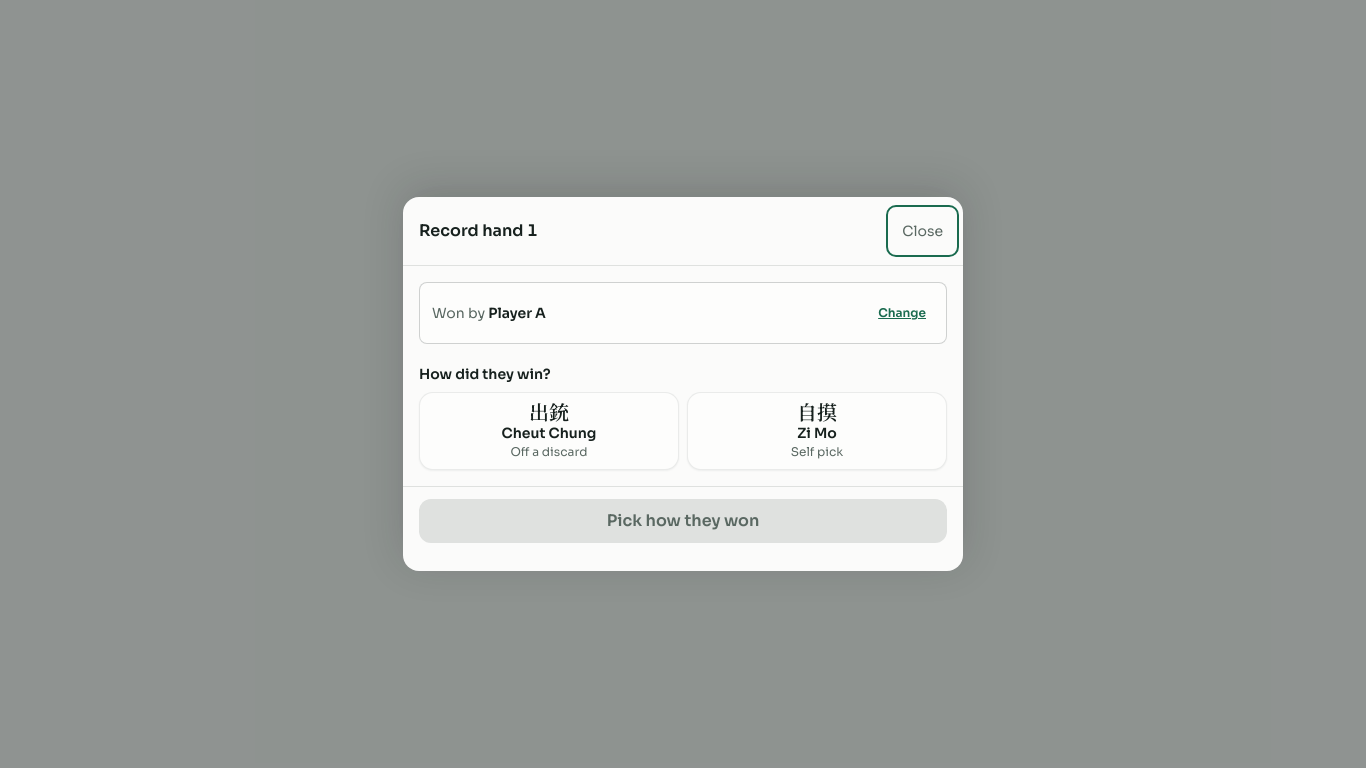
Test: recording a hand › will not let the winner be their own shooter
Click the button "出銃 Cheut Chung Off a discard" at [549, 431], box [419,392,679,470]
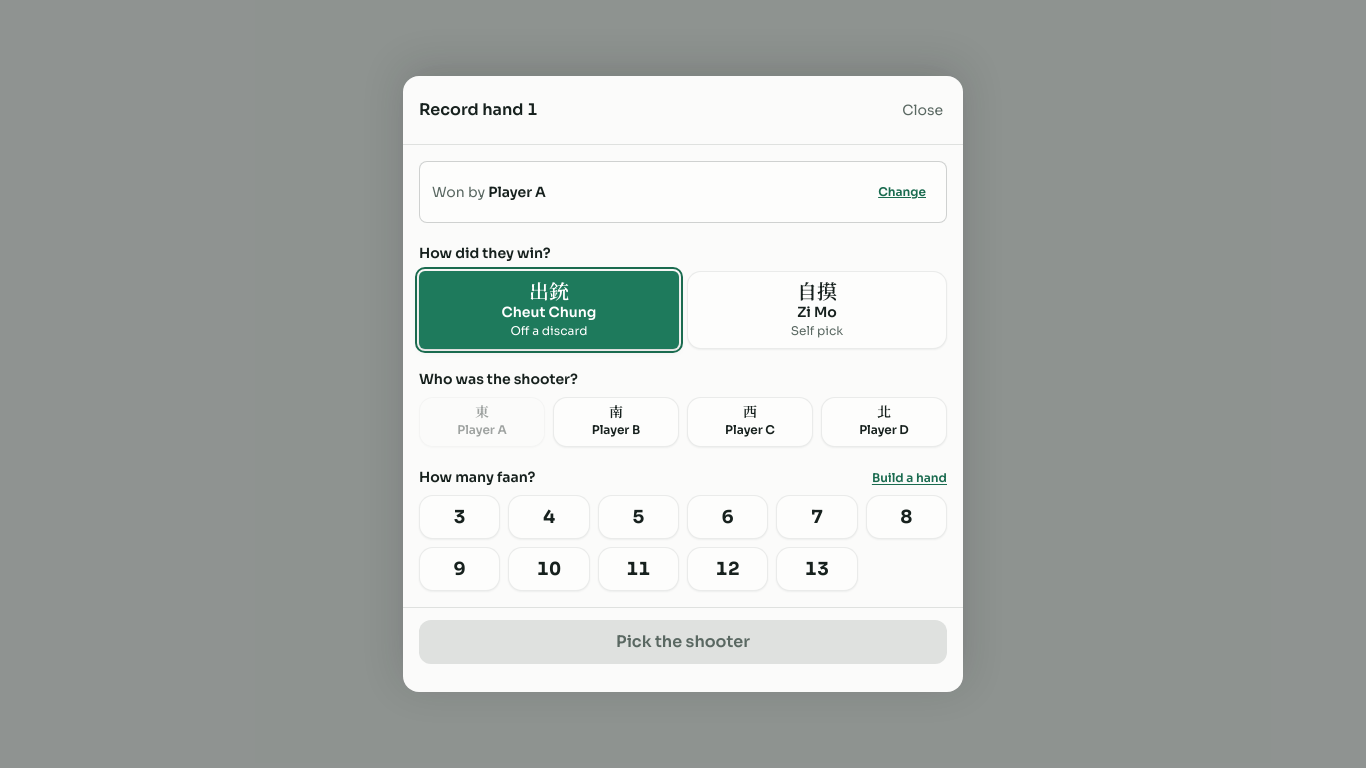
Now the button "東 Player A" is disabled, box [419,397,545,447]
